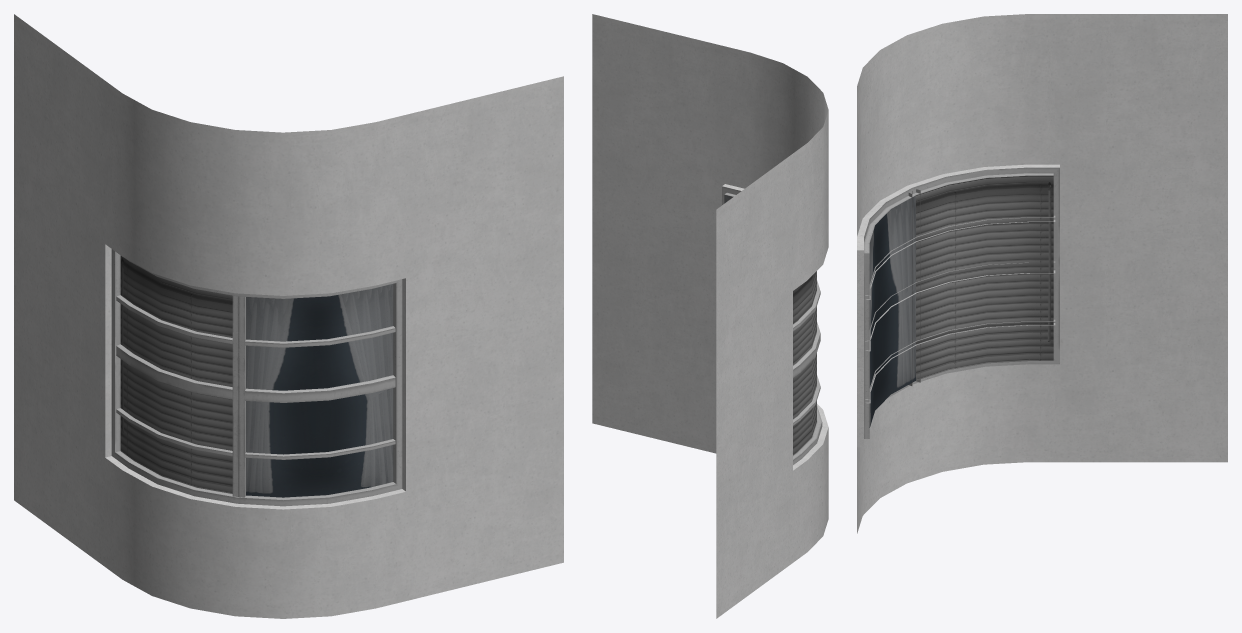
File: MB_Wall_Window_A_05.fbx
3 views of the same model, side by side, from view 1: azimuth 30°, elevation 25°; view 2: azimuth 150°, elevation 25°; view 3: azimuth 270°, elevation 25° (orthographic). The views are drawn at different scales.
Parts seen in each view (by area): view 1: MB_Wall_Window_A_05_LOD0; view 2: MB_Wall_Window_A_05_LOD0; view 3: MB_Wall_Window_A_05_LOD0.
Boxes of the visible parts, x1,y1,x2,y2 form: MB_Wall_Window_A_05_LOD0: (14,14,563,618); MB_Wall_Window_A_05_LOD0: (592,14,828,618); MB_Wall_Window_A_05_LOD0: (857,14,1227,533).
Size of what is drawn, in the model's own units: 300 by 400 by 300.
